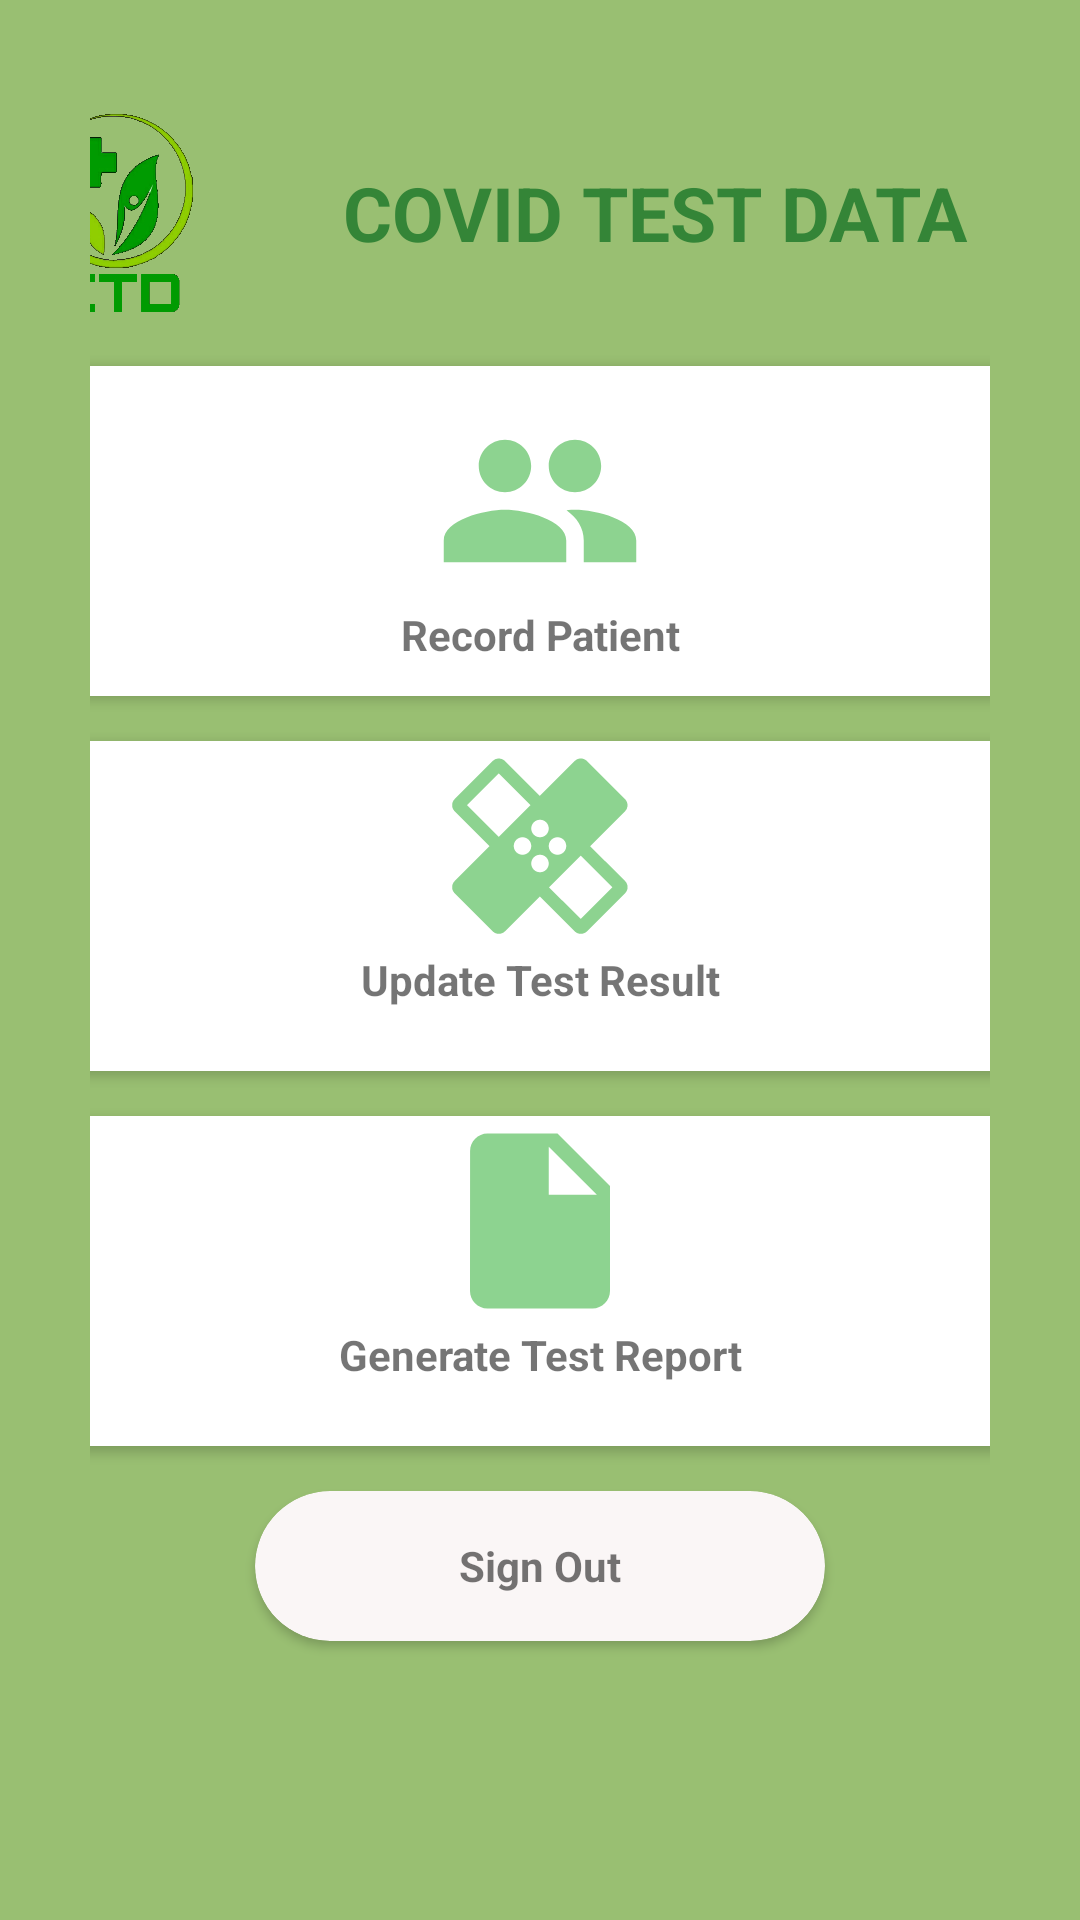

Named icons in this screenshot (1080px×1920px) and their centers, point (x, y):
insert drive file: point (540, 1221)
